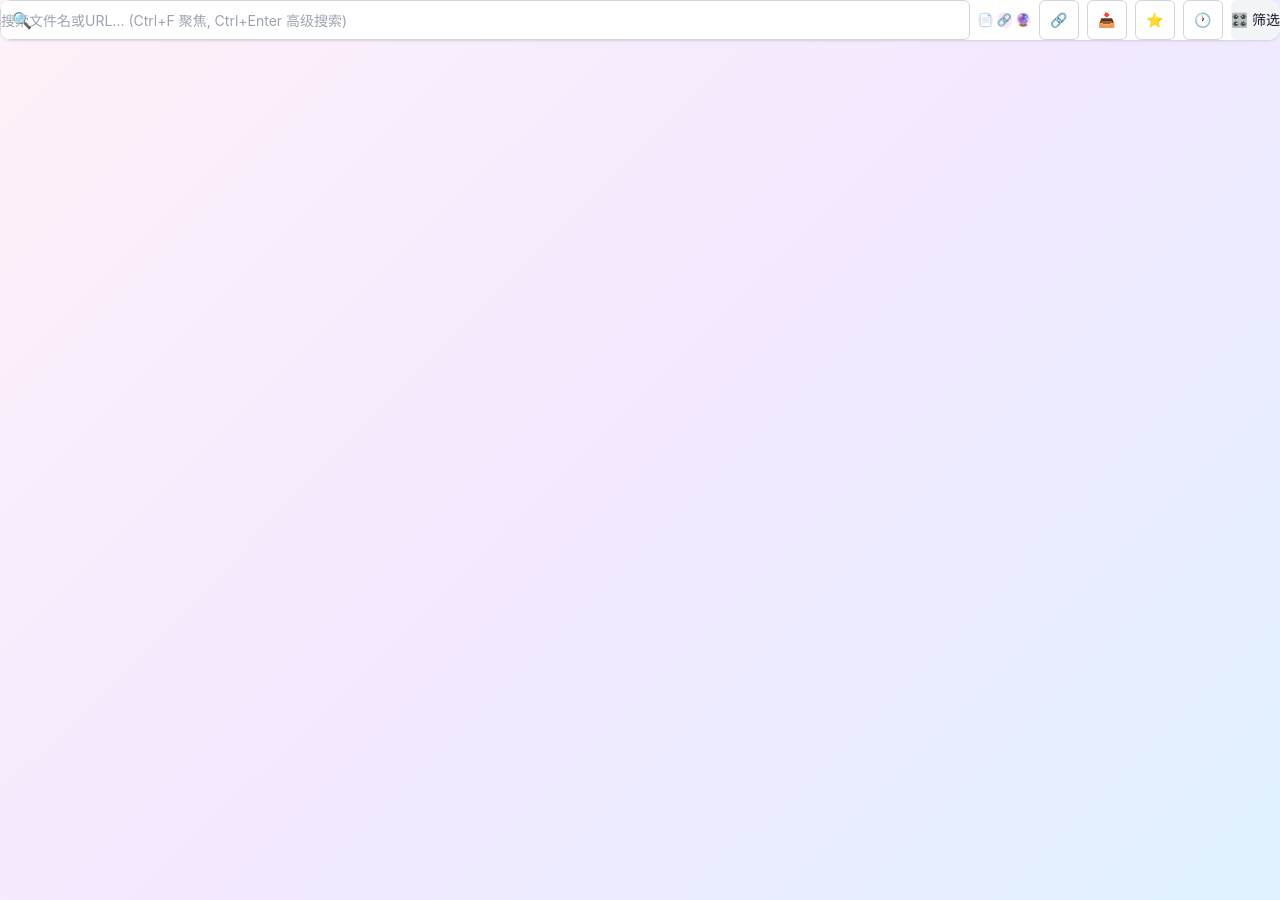
Test: SearchFilter Component › should change sort options
Click the button "🎛️ 筛选" at (1255, 20), box [1231,0,1279,40]
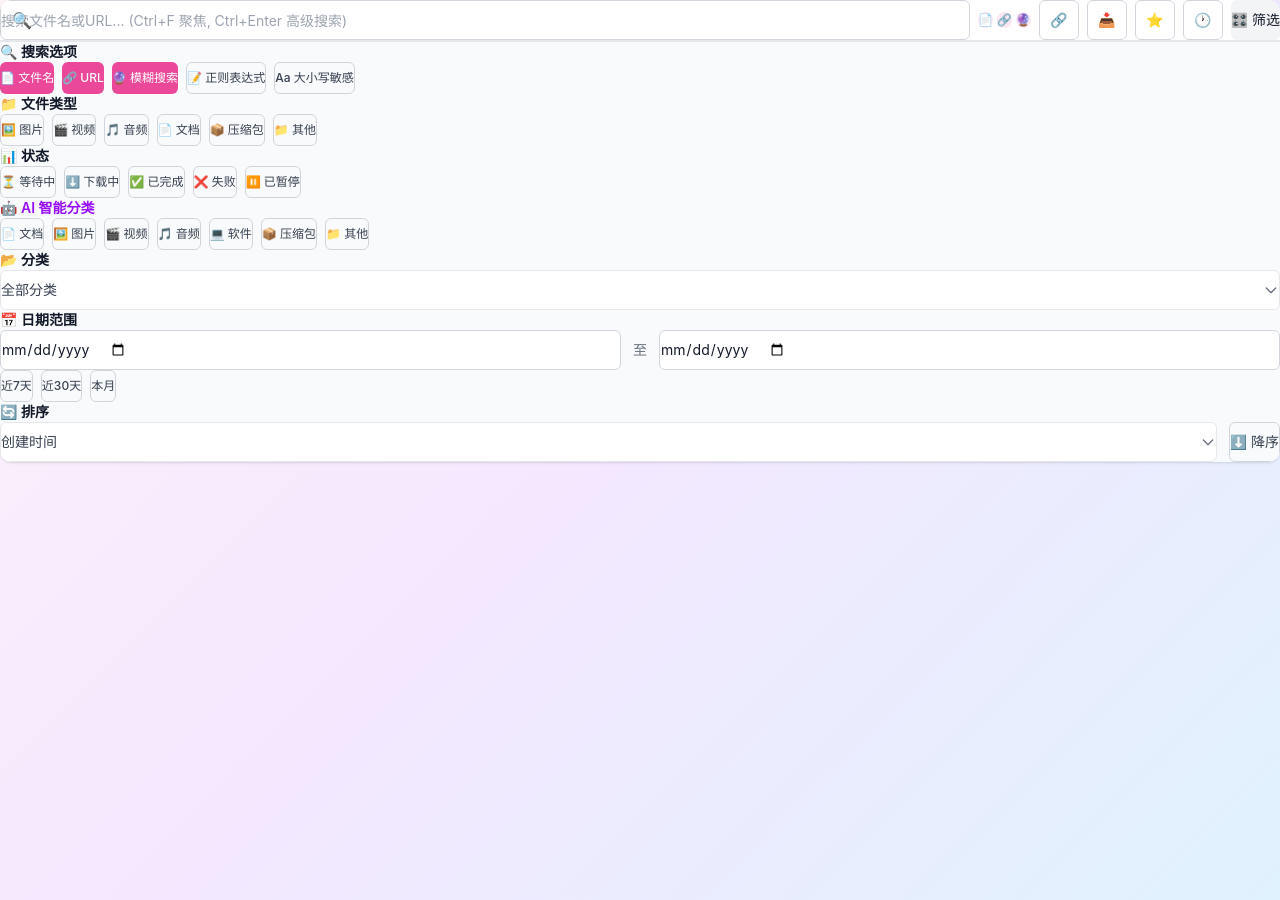
Click the dropdown labelled "创建时间" at (29, 442), box [0,422,1217,462]
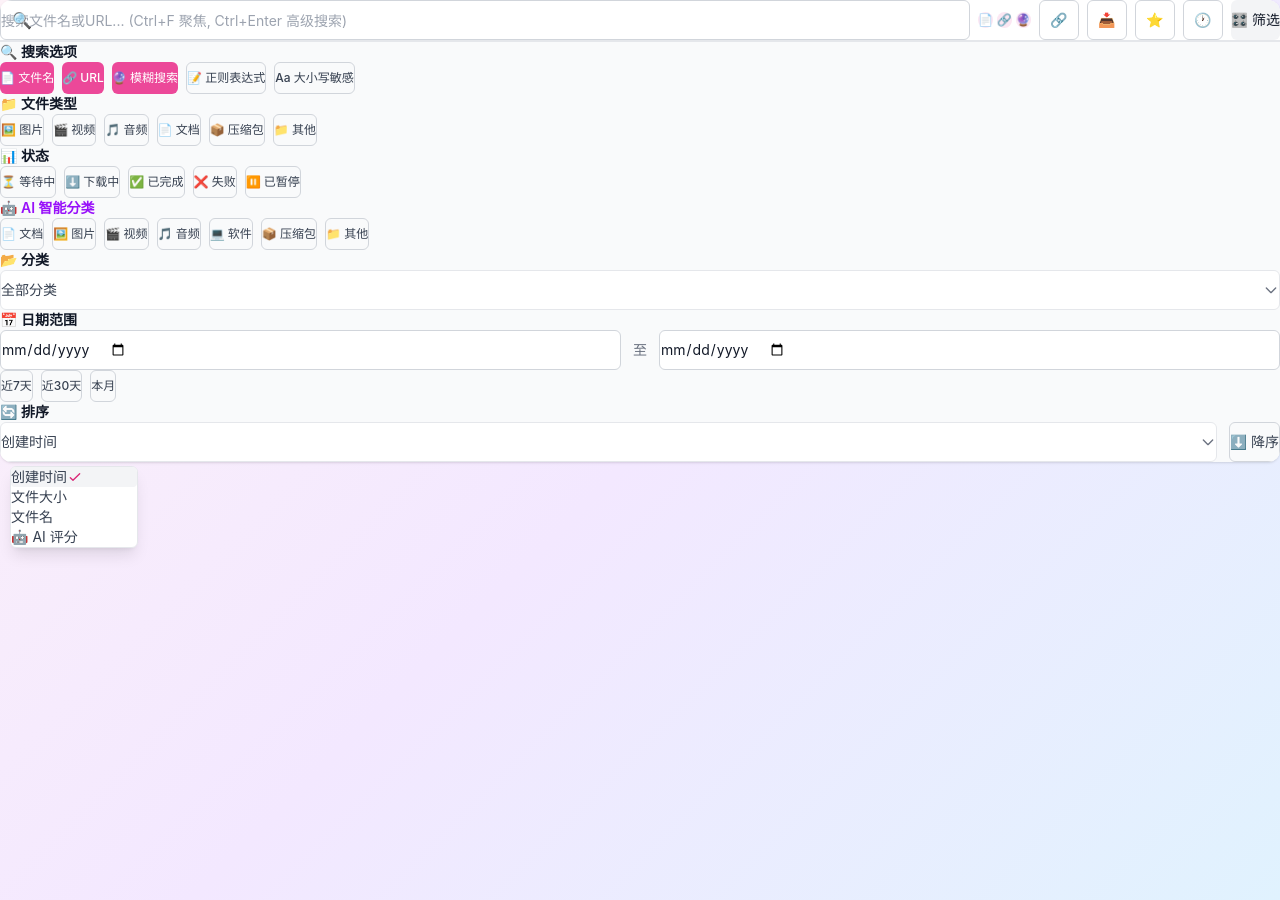
Expected: the text "文件大小" is shown, [11,487,67,507]
